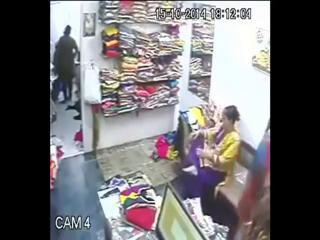Normal: (177, 105, 241, 216), (234, 119, 270, 240), (52, 24, 78, 104)
